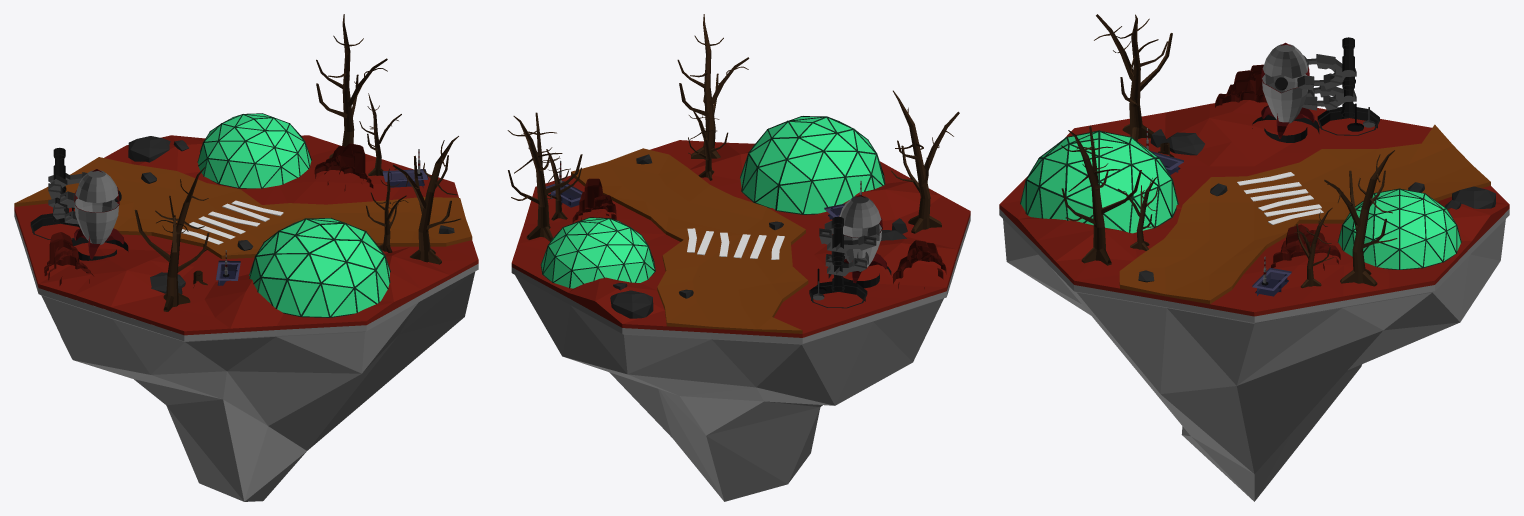
The model's file is Mars_planet_base_003.FBX.
3 views of the same model, side by side, from view 1: azimuth 30°, elevation 25°; view 2: azimuth 150°, elevation 25°; view 3: azimuth 270°, elevation 25° (orthographic). The views are drawn at different scales.
Visible parts, largest first — view 1: 009_MARS PLANET_BASE; view 2: 009_MARS PLANET_BASE; view 3: 009_MARS PLANET_BASE.
Part boxes in pixels (x1,y1,x2,y2): 009_MARS PLANET_BASE: [14, 14, 478, 501]; 009_MARS PLANET_BASE: [507, 14, 970, 501]; 009_MARS PLANET_BASE: [999, 14, 1509, 501].
Size of the model in its own units: 16.22 by 15.01 by 16.22.
